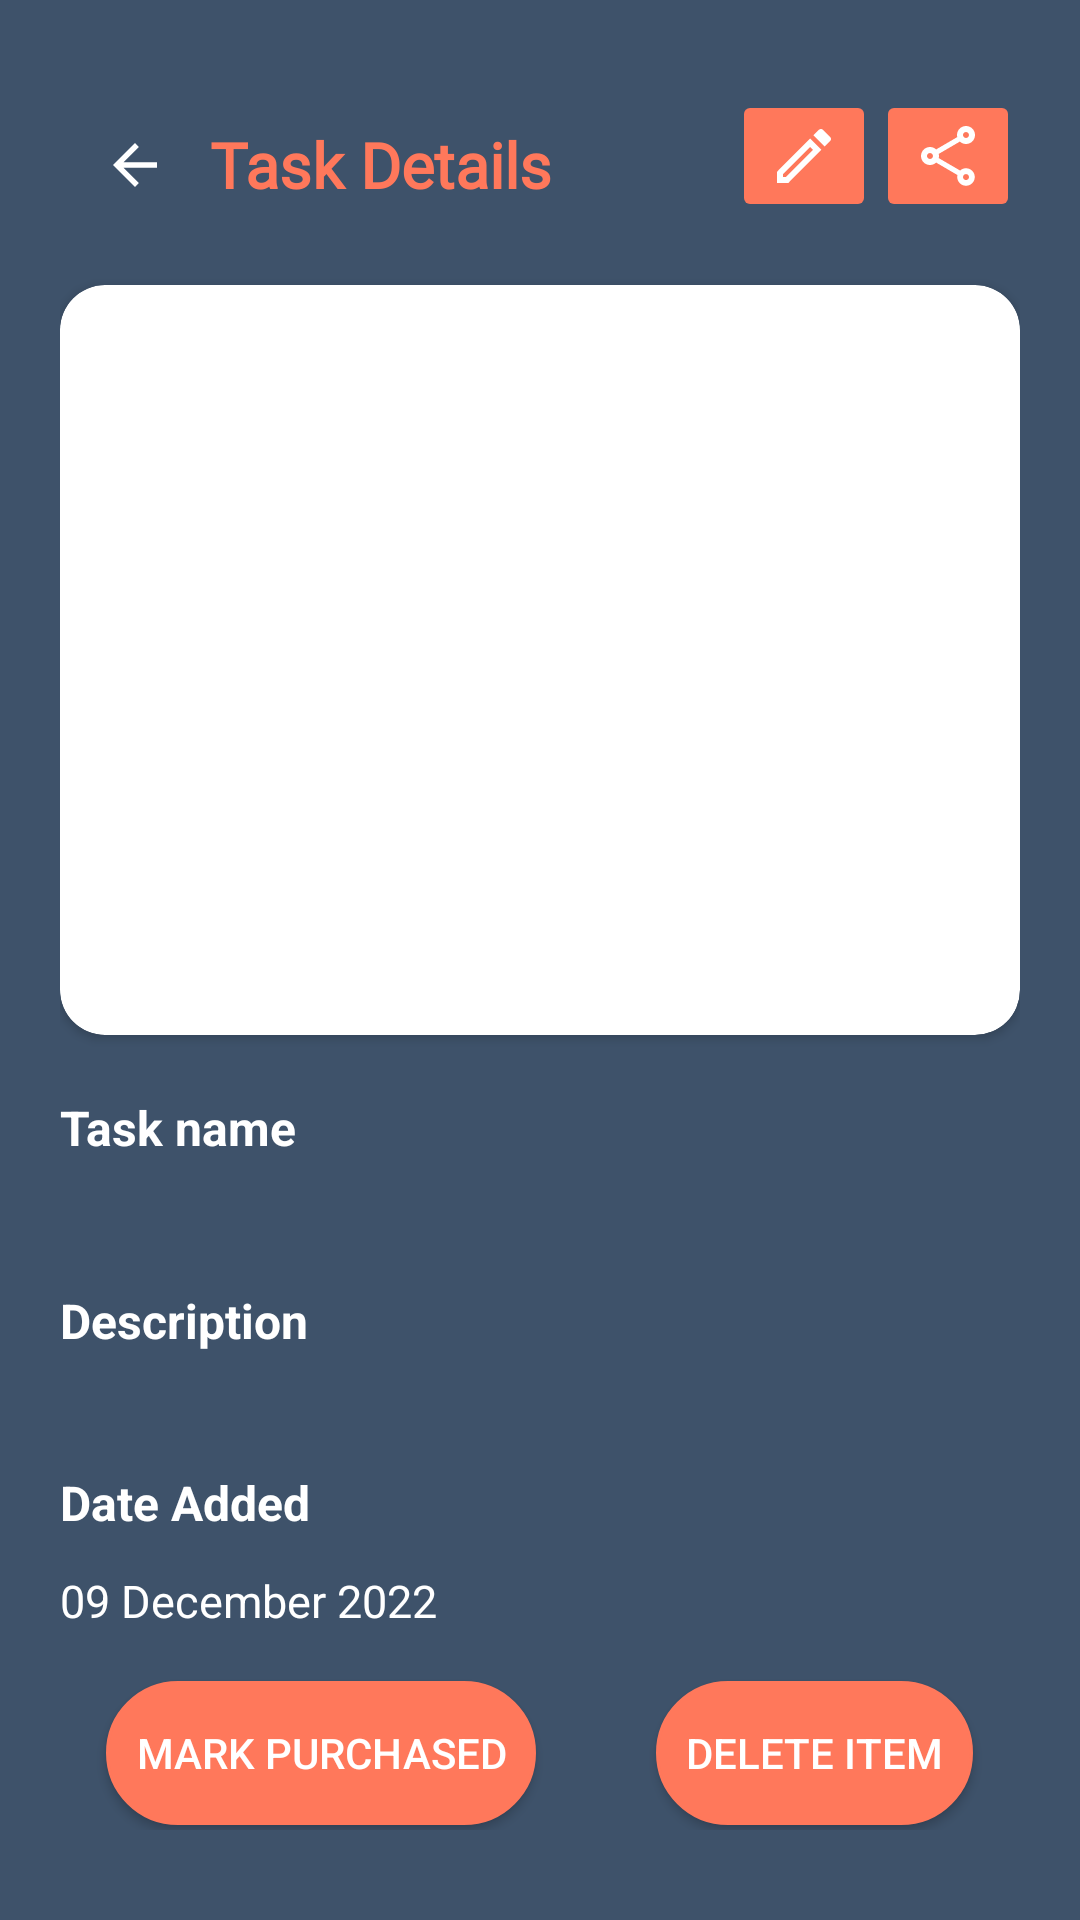

Icon click points for this 1080 x 1920 phone screenshot, format (x,y):
back: (135,165)
edit: (804,156)
share: (948,156)
